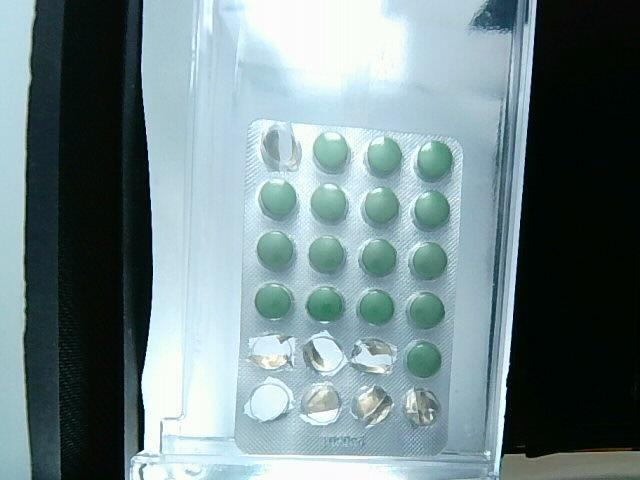Light Front: (235, 120, 465, 459)
No Pill Front: (244, 376, 294, 421), (304, 330, 346, 375), (263, 123, 301, 171), (351, 385, 393, 428), (300, 383, 341, 425), (249, 334, 296, 369), (351, 338, 396, 374), (403, 388, 440, 427)
Pill Front: (364, 135, 404, 176), (361, 186, 399, 227), (305, 285, 346, 323), (314, 130, 350, 173), (415, 140, 453, 180), (310, 184, 348, 224), (259, 179, 297, 219), (358, 239, 398, 277), (256, 233, 296, 271), (411, 191, 449, 229), (309, 235, 346, 273), (255, 283, 293, 319), (356, 289, 394, 325), (409, 243, 446, 278), (408, 293, 444, 328), (406, 341, 441, 376)
